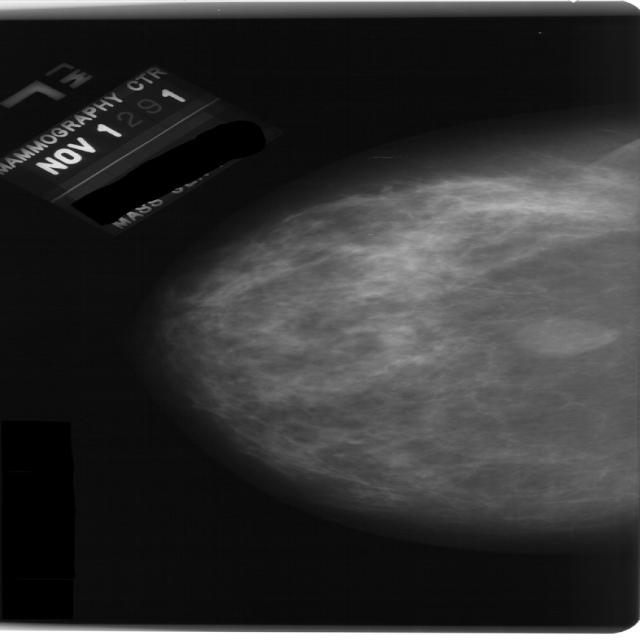tumour: (514, 316, 615, 354)
